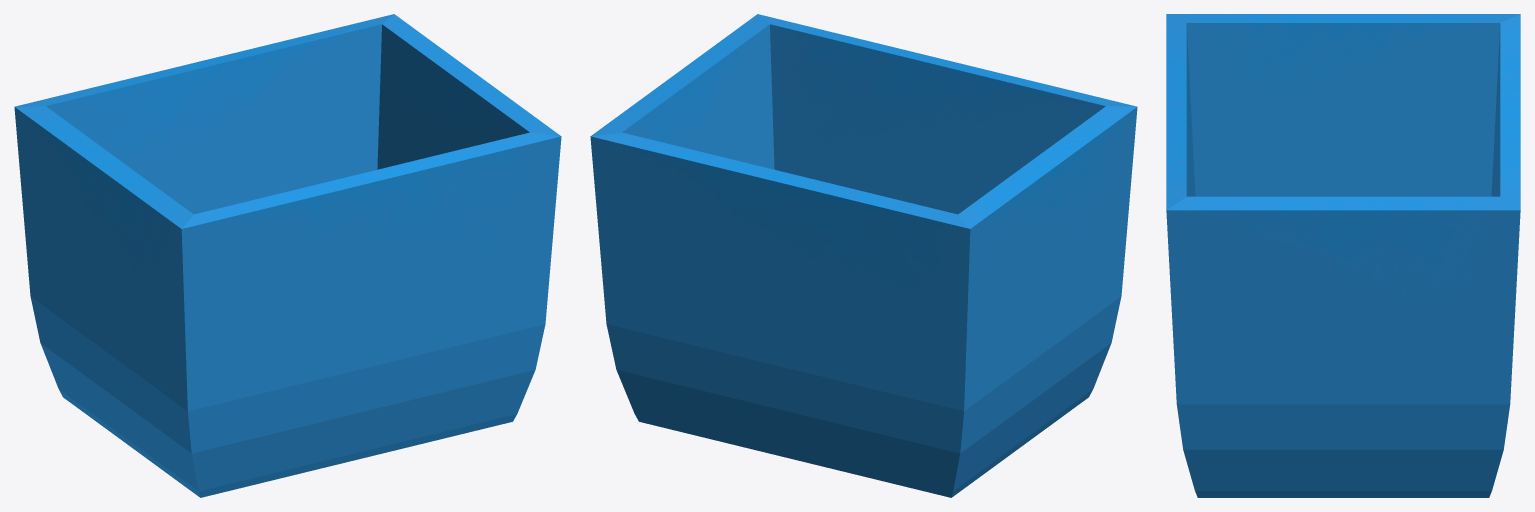
The model's file is cooler_base_TEXTURIZADO.fbx.
3 views of the same model, side by side, from view 1: azimuth 30°, elevation 25°; view 2: azimuth 150°, elevation 25°; view 3: azimuth 270°, elevation 25° (orthographic). The views are drawn at different scales.
Parts seen in each view (by area): view 1: Cube.079; view 2: Cube.079; view 3: Cube.079.
Part boxes in pixels (left/top/right/bottom): Cube.079: left=14, top=14, right=561, bottom=497; Cube.079: left=590, top=14, right=1137, bottom=497; Cube.079: left=1166, top=14, right=1520, bottom=497.
Size of the model in its own units: 67.47 by 49.24 by 51.44.
Materials: 1 (1 with a texture image).
